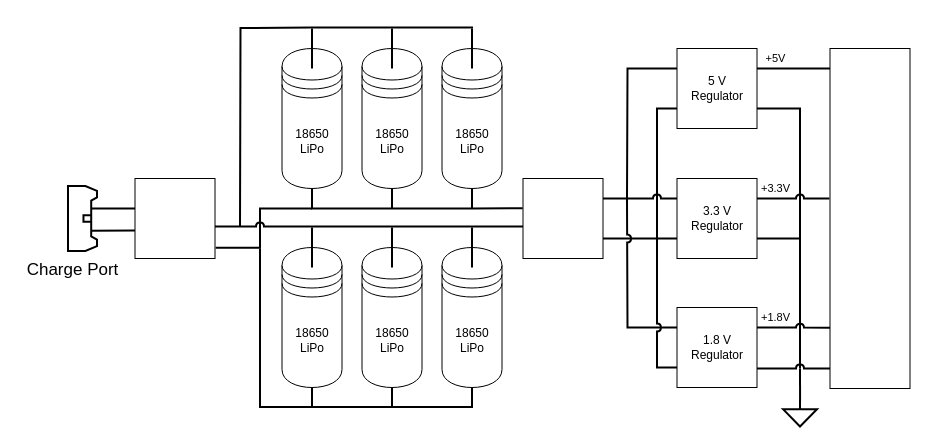
This 927x444 diagram has some shape labels left out. The centre of each missing label's shape, as x and y in pixels:
"Backplane" goes at (869,218).
"Charge Controller" goes at (174,218).
"OV/OC Protection" goes at (562,218).
